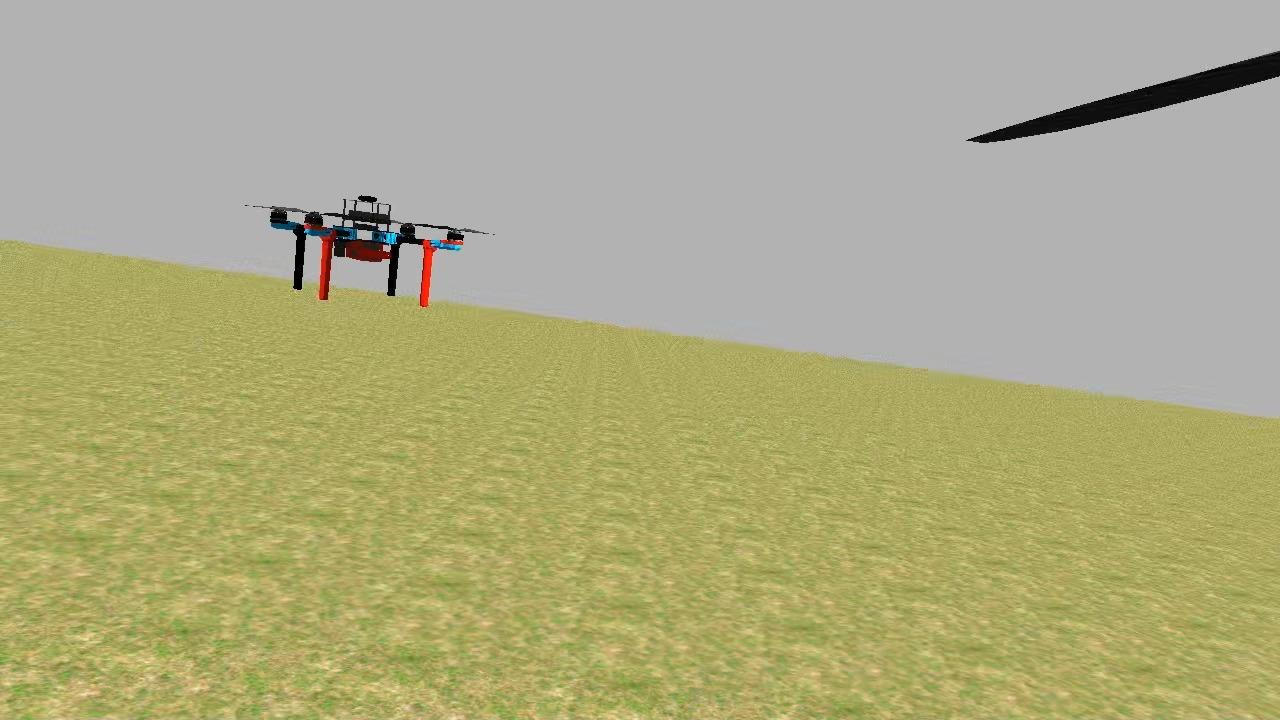UAV: (263, 188, 471, 312)
